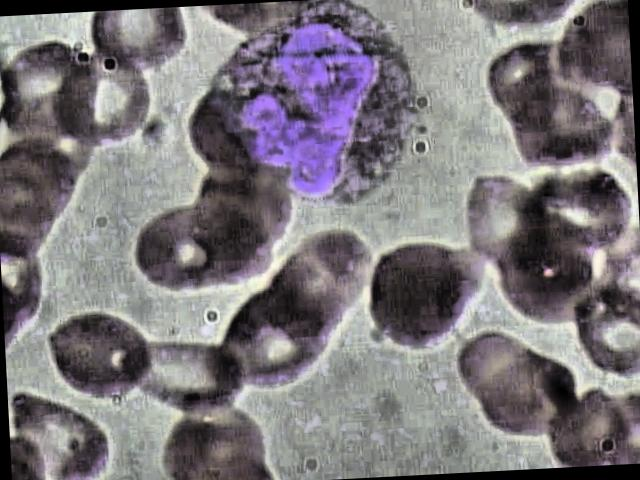RBC: (361, 237, 490, 354), (123, 334, 256, 422), (49, 309, 154, 406), (8, 391, 113, 480), (83, 8, 190, 78)
WBC: (192, 0, 432, 219)
